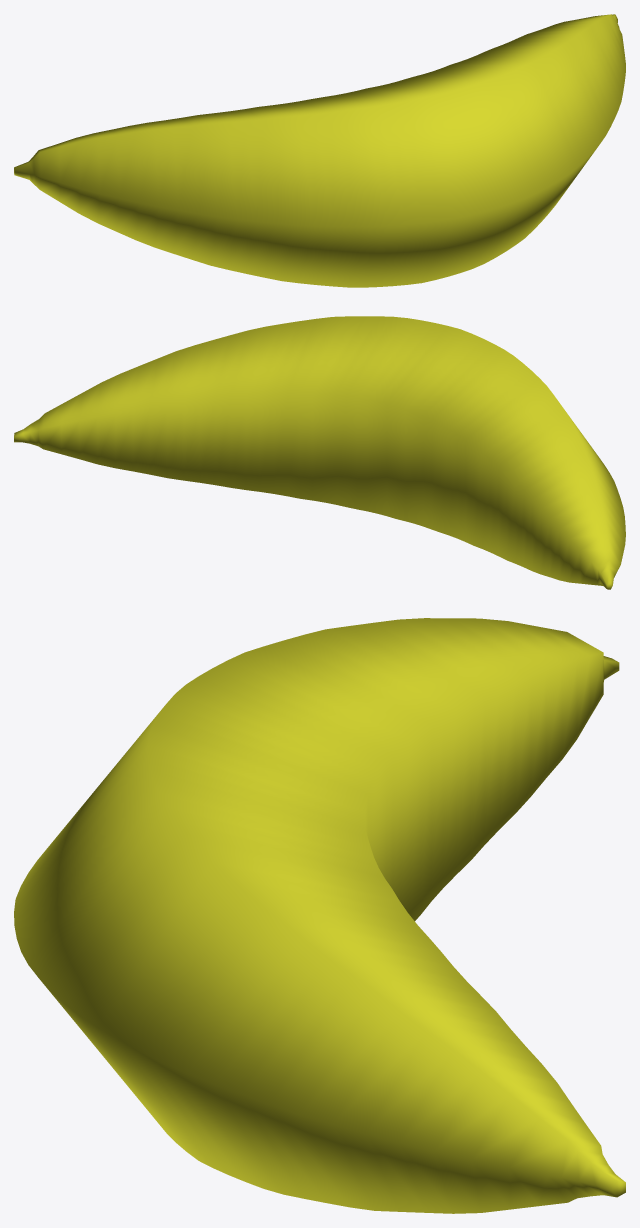
Rendered from banana.fbx.
The picture shows the model from 3 angles, top to bottom: view 1: azimuth 30°, elevation 25°; view 2: azimuth 150°, elevation 25°; view 3: azimuth 270°, elevation 25°; orthographic projection. The views are drawn at different scales.
Parts seen in each view (by area): view 1: banana; view 2: banana; view 3: banana.
Part boxes in pixels (x1,y1,x2,y2): banana: (14,14,625,287); banana: (14,316,625,589); banana: (14,618,625,1213).
Bounding box in the file's own units: 10.99 × 3.21 × 5.32.
